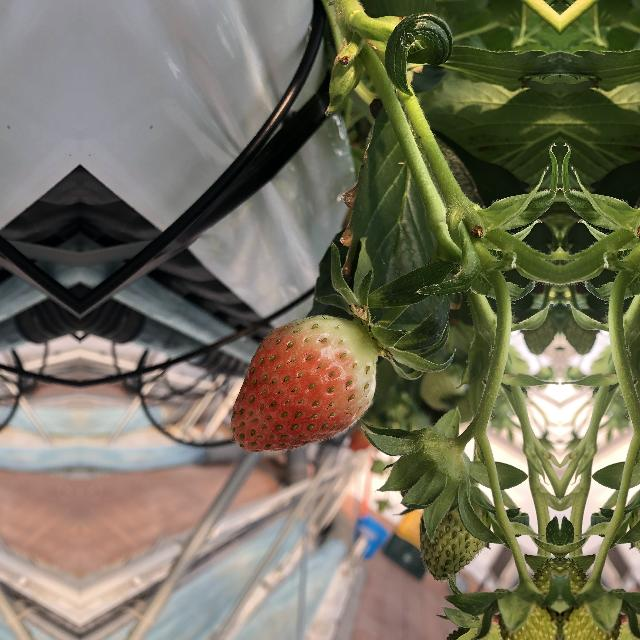Health_100: (218, 309, 392, 461)
Health_25: (418, 459, 489, 578)
